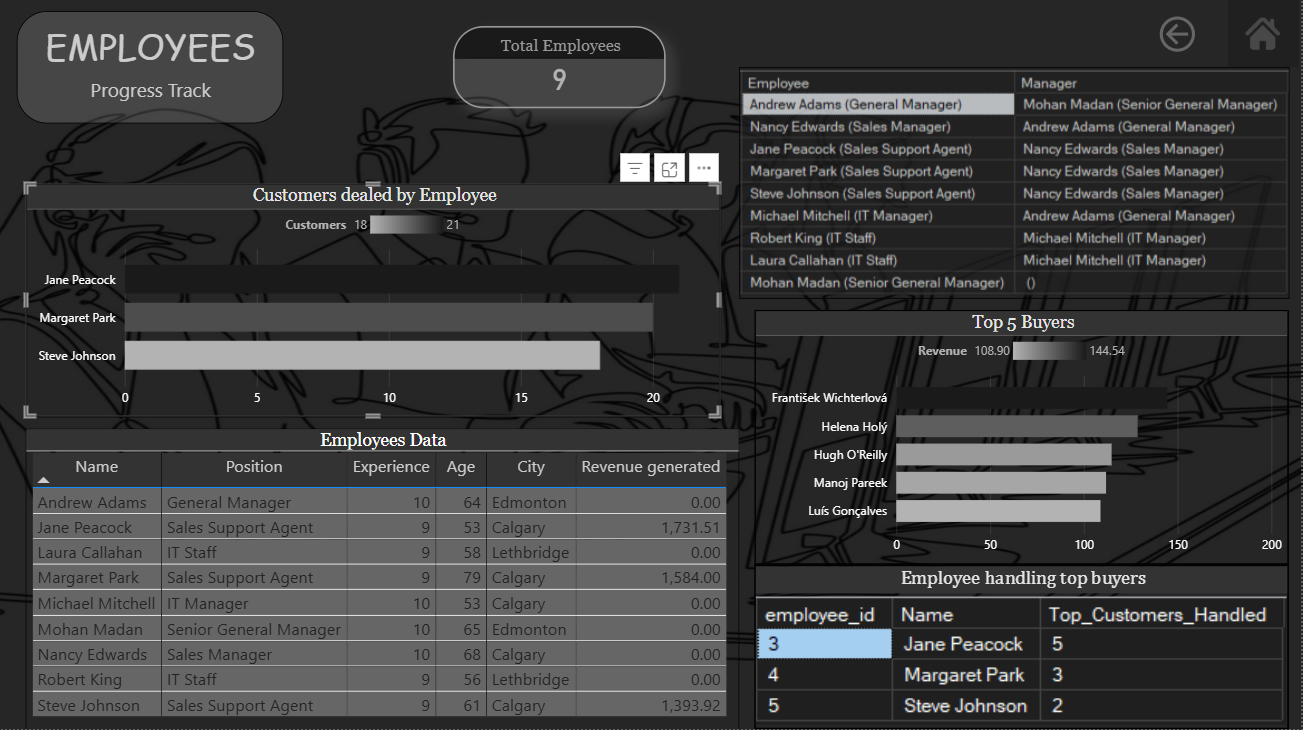

What the dashboard file says about the page in this screenshot:
{"tool":"powerbi","page":{"name":"Employee","canvas":[1280,720],"ordinal":2},"visuals":[{"type":"card","title":"Total Employees","fields":{"Values":["Employee.Total_Employees"]},"box":[446.6,29.4,208.6,81],"z":0},{"type":"tableEx","title":"Employees Data","fields":{"Values":["Employee.Name","Employee.title","Employee.Experience","Employee.Age","Employee.city","invoice_line.Total_Revenue"]},"box":[27,424.5,700.6,295.7],"z":1000},{"type":"actionButton","box":[1135,14.7,47.9,45.4],"z":2000},{"type":"image","title":"Employee handling top buyers","box":[742.3,558.3,525.2,162],"z":3000},{"type":"clusteredBarChart","title":"Top 5 Buyers","fields":{"Category":["Customer.Name"],"Y":["invoice_line.Total_Revenue"]},"box":[742.3,308,525.2,250.3],"z":4000},{"type":"image","box":[727.6,69.9,539.9,227],"z":5000},{"type":"textbox","title":"EMPLOYEES ","box":[18.4,14.7,261.4,110.4],"z":6000},{"type":"barChart","title":"Customers dealed by Employee","fields":{"Category":["Employee.Name"],"Y":["Customer.Total_Customers"]},"box":[27,184.1,682.2,229.4],"z":7000},{"type":"image","box":[1204.9,0,74.8,69.9],"z":8000}]}

Visuals, with their boxes in screenshot pixels (x1, y1, x2, y2), scaled from the page's 1280x720 canvas onto the 1303x730 screenshot:
"Total Employees" card: detection(455, 30, 667, 112)
"Employees Data" tableEx: detection(27, 430, 741, 729)
actionButton: detection(1155, 15, 1204, 61)
"Employee handling top buyers" image: detection(756, 566, 1290, 729)
"Top 5 Buyers" clusteredBarChart: detection(756, 312, 1290, 566)
image: detection(741, 71, 1290, 301)
"EMPLOYEES " textbox: detection(19, 15, 285, 127)
"Customers dealed by Employee" barChart: detection(27, 187, 722, 419)
image: detection(1227, 0, 1302, 71)
